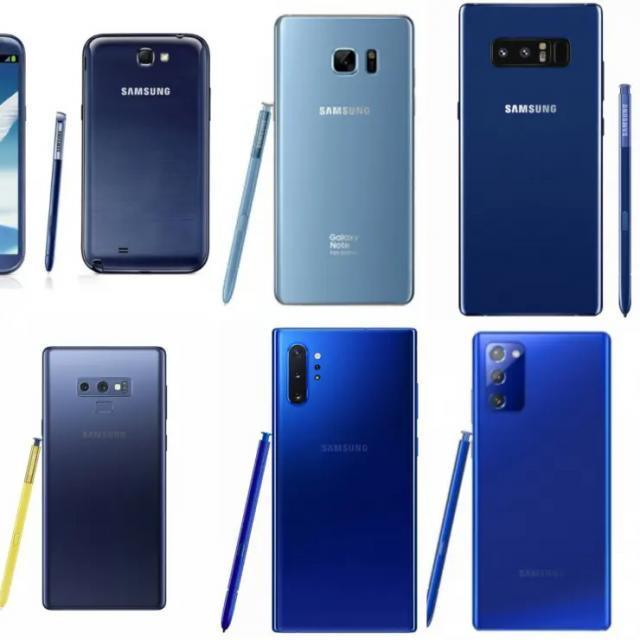phone: (459, 2, 604, 317), (272, 327, 418, 632), (472, 330, 612, 631), (274, 13, 414, 306), (42, 346, 166, 612), (80, 33, 210, 274)
